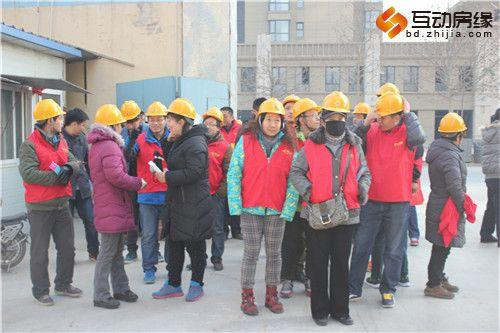helmet: (33, 99, 66, 123), (440, 113, 469, 135), (97, 105, 125, 127), (169, 99, 196, 121), (323, 93, 351, 114), (295, 99, 321, 121), (379, 95, 405, 116), (261, 99, 287, 118), (124, 102, 142, 122), (148, 102, 167, 118), (205, 108, 224, 123), (355, 104, 370, 116), (285, 95, 300, 107)
